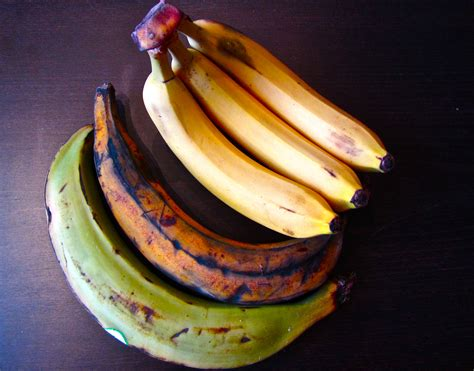banana: (41, 118, 342, 371), (86, 83, 350, 309), (142, 69, 345, 241), (185, 16, 398, 176), (172, 47, 370, 214)
